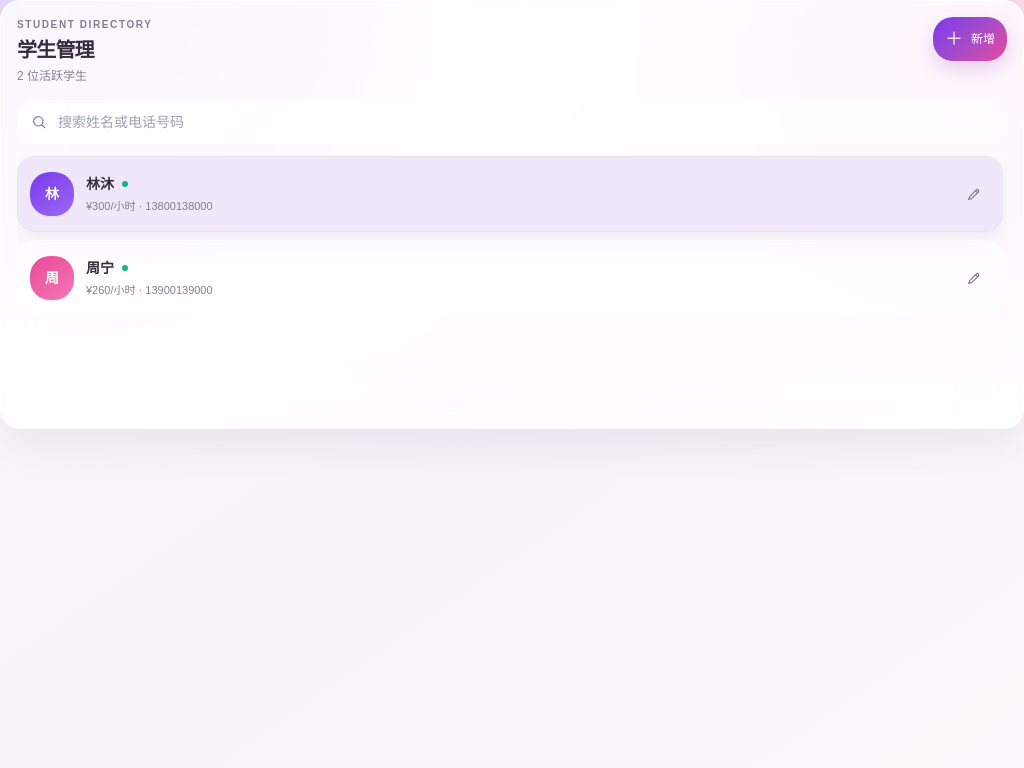
Test: StudentsPanel › filters by name and phone
In the search field with test id "student-search": {"x": 512, "y": 122} [17,100,1007,144], type "周"
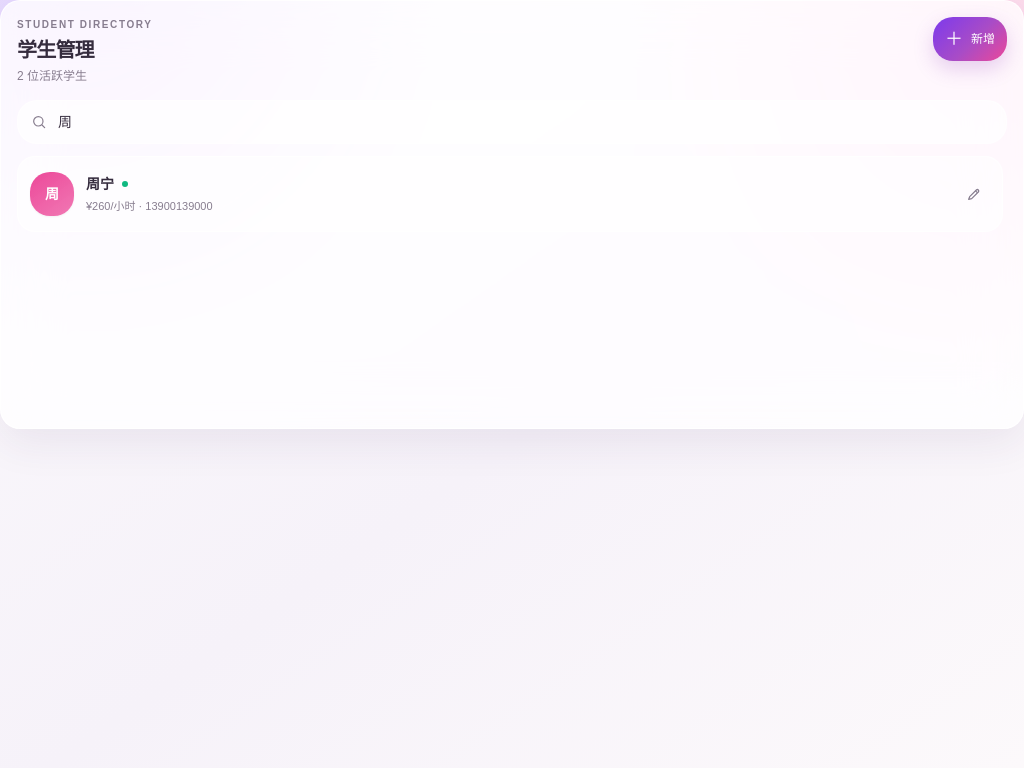
Check: the text "周宁" is shown, box [86,174,114,194]
Check: the text "林沐" is gone
Replace the text in the search field with test id "student-search" with "138": {"x": 512, "y": 122} [17,100,1007,144]
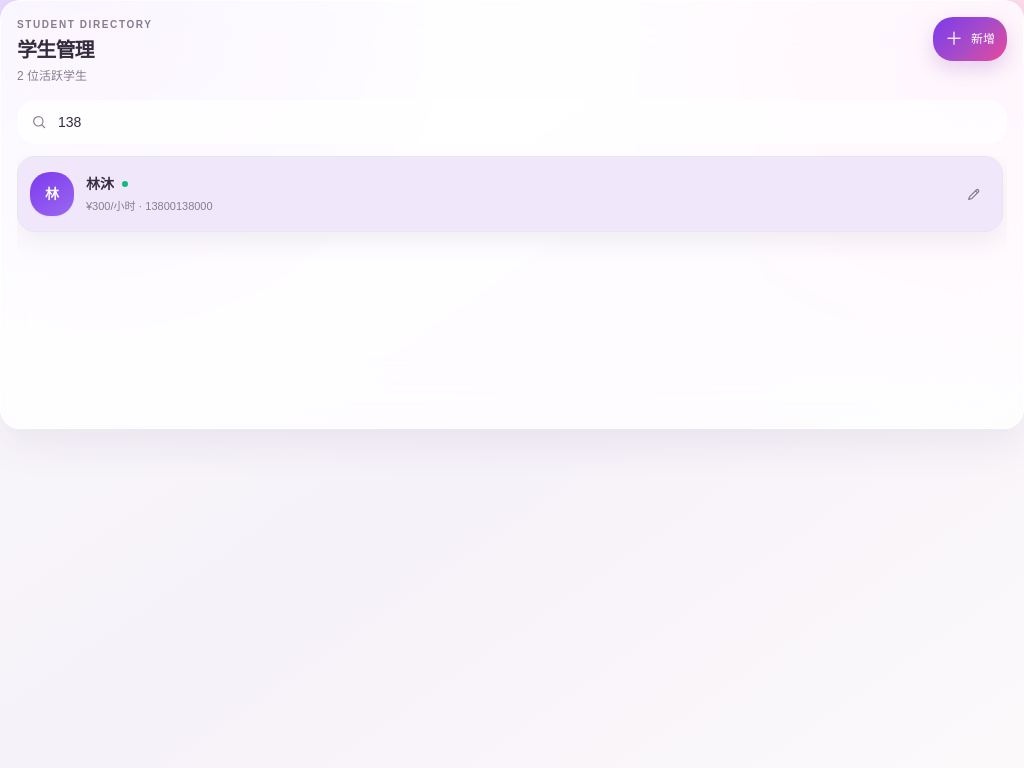
Check: the text "林沐" is shown, box [86,174,114,194]
Check: the text "周宁" is gone
